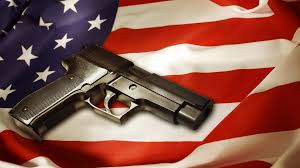gun: (9, 41, 216, 140)
